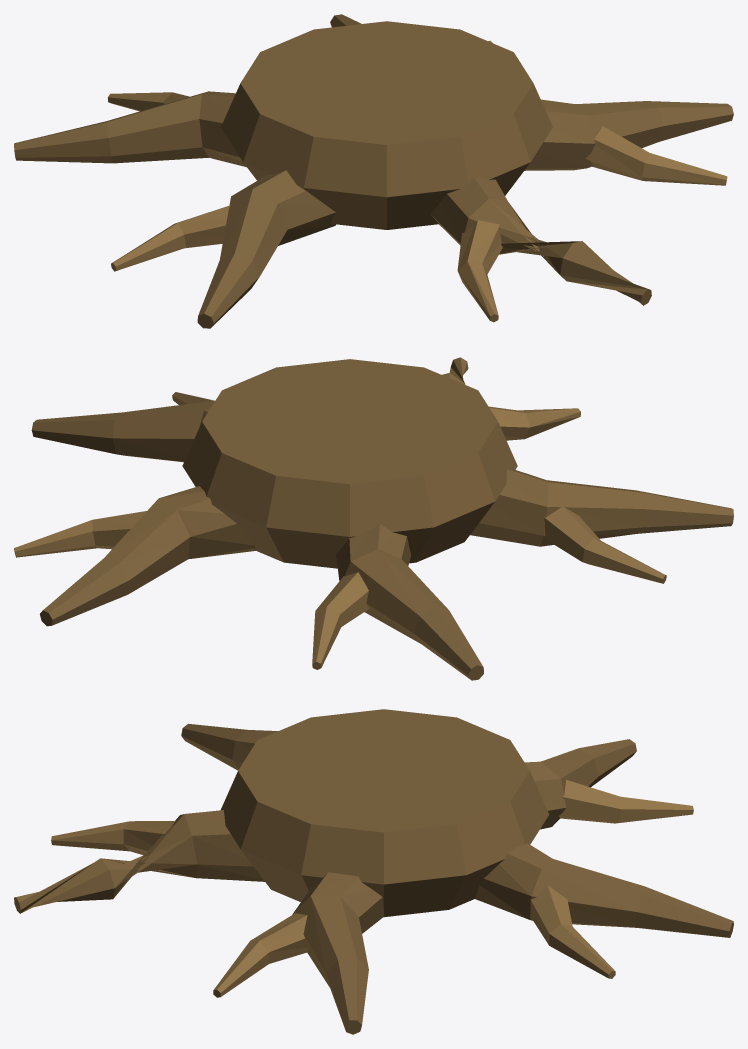
Rendered from CreepingRoot.obj.
3 views of the same model, one above another, from view 1: azimuth 30°, elevation 25°; view 2: azimuth 150°, elevation 25°; view 3: azimuth 270°, elevation 25° (orthographic).
Parts seen in each view (by area): view 1: CreepingRoot_CreepingRootRoot, CreepingRoot_CreepingRootYoungRoot; view 2: CreepingRoot_CreepingRootRoot, CreepingRoot_CreepingRootYoungRoot; view 3: CreepingRoot_CreepingRootRoot, CreepingRoot_CreepingRootYoungRoot.
Boxes of the visible parts, x1,y1,x2,y2 form: CreepingRoot_CreepingRootRoot: [14, 14, 733, 328]; CreepingRoot_CreepingRootYoungRoot: [107, 40, 727, 322]; CreepingRoot_CreepingRootRoot: [31, 357, 733, 680]; CreepingRoot_CreepingRootYoungRoot: [14, 392, 666, 669]; CreepingRoot_CreepingRootRoot: [14, 709, 733, 1034]; CreepingRoot_CreepingRootYoungRoot: [51, 780, 693, 997].
Bounding box in the file's own units: 3.67 × 0.6 × 3.7.
